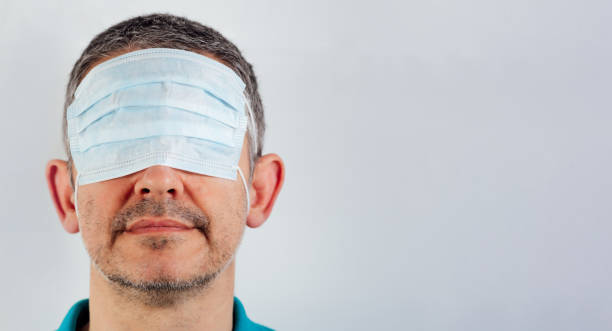with_incorrect_mask: (79, 55, 251, 278)
